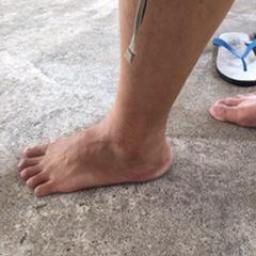Lateral View -Left Foot-: (12, 93, 189, 200)
